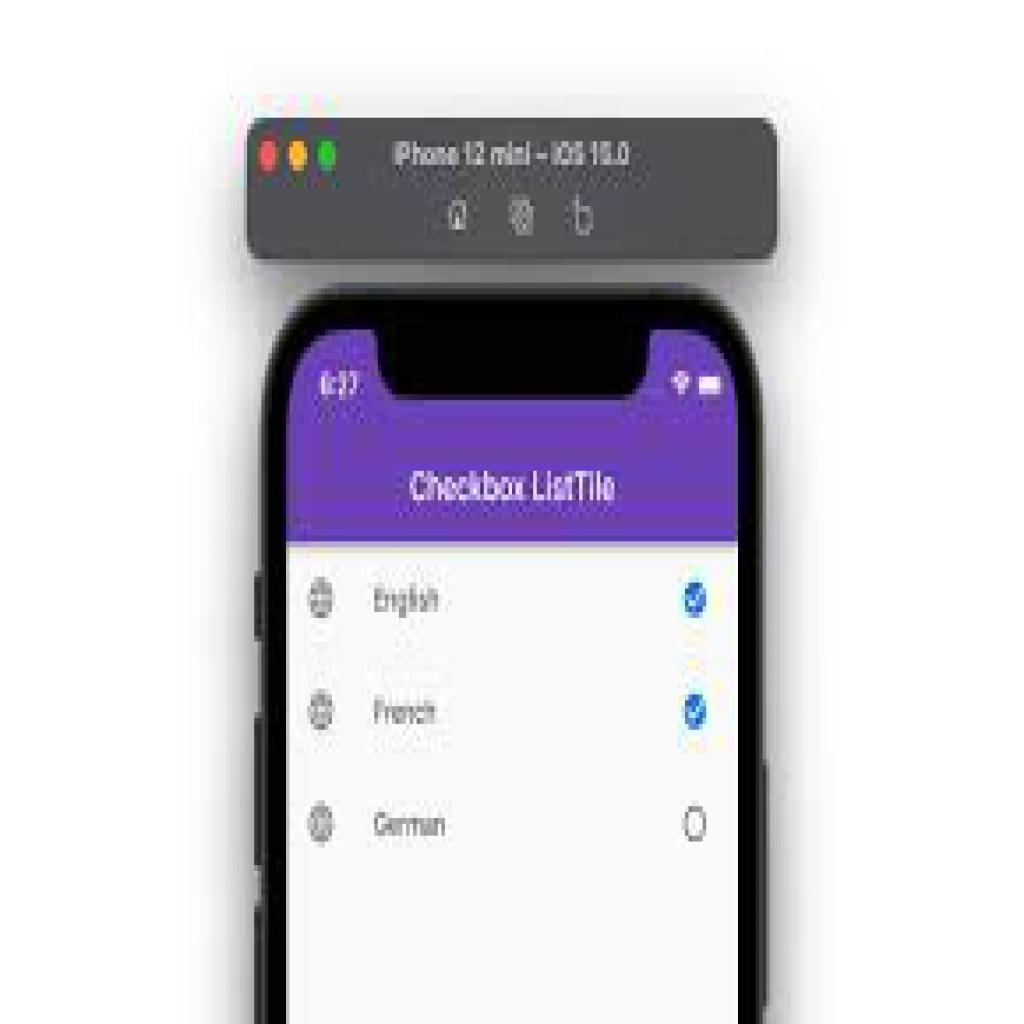checkbox: (678, 577, 713, 627), (681, 690, 714, 738), (683, 804, 708, 848)
